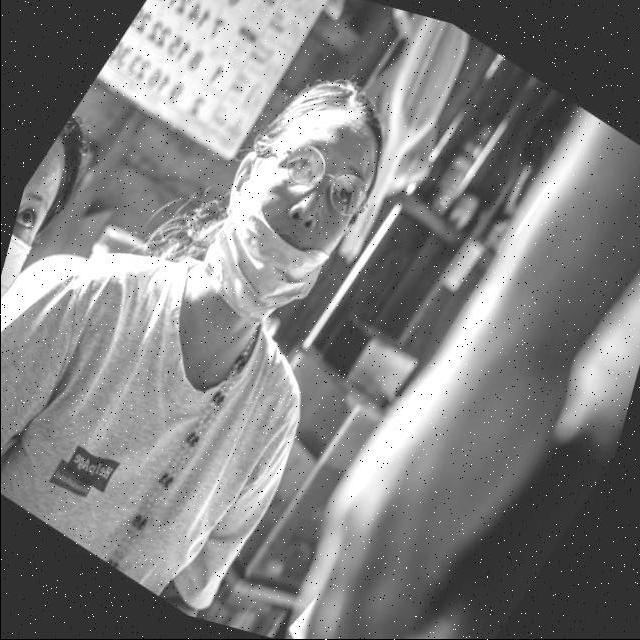no_gloves: (280, 86, 380, 168)
